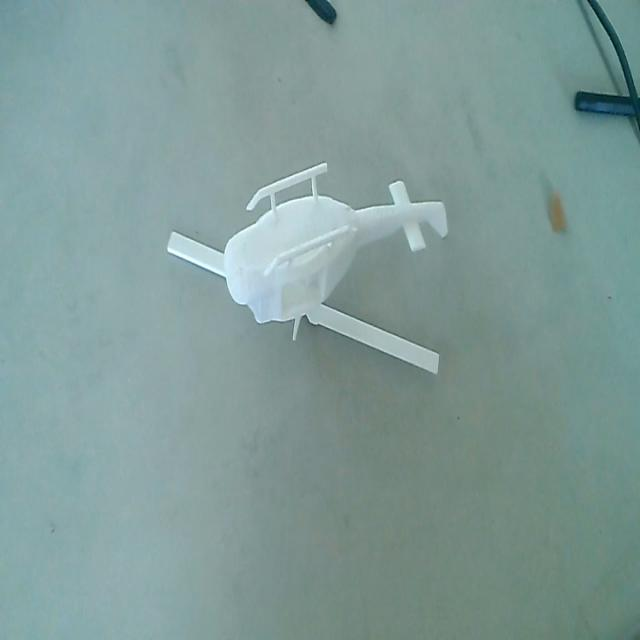Helicopter: (168, 155, 449, 377)
